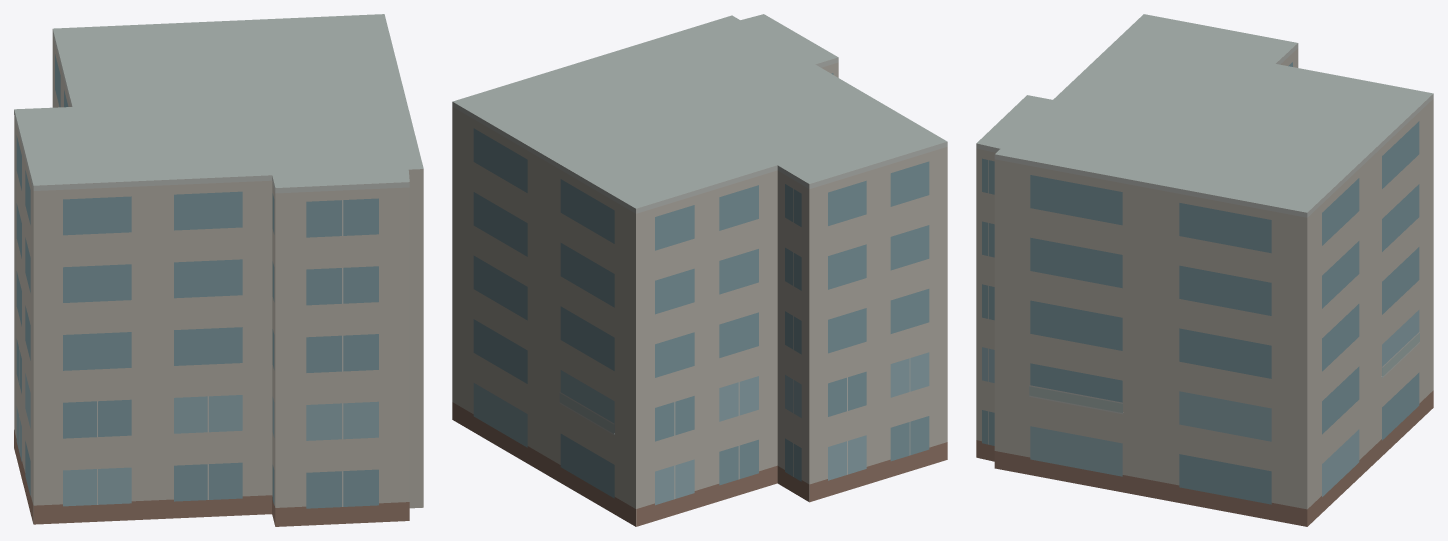
File: survey-upis-32531596.glb
The picture shows the model from 3 angles, left to right: view 1: azimuth 30°, elevation 25°; view 2: azimuth 150°, elevation 25°; view 3: azimuth 270°, elevation 25°; orthographic projection. The views are drawn at different scales.
Visible parts, largest first — view 1: survey-upis-32531596.tmp; view 2: survey-upis-32531596.tmp; view 3: survey-upis-32531596.tmp.
Boxes of the visible parts, bbox=[...] form: survey-upis-32531596.tmp: bbox=[14, 14, 423, 526]; survey-upis-32531596.tmp: bbox=[452, 14, 947, 526]; survey-upis-32531596.tmp: bbox=[976, 14, 1433, 526].
Size of the model in its own units: 20.77 by 15.3 by 20.2.
